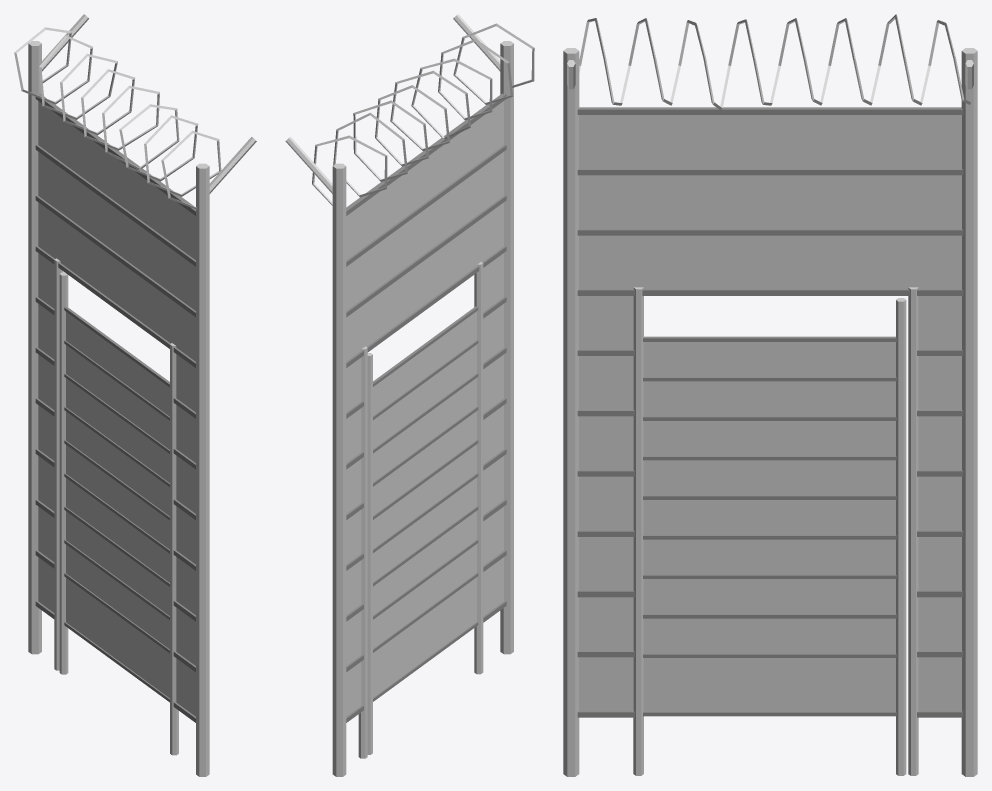
The model's file is Fence_Razor_Door.FBX.
3 views of the same model, side by side, from view 1: azimuth 30°, elevation 25°; view 2: azimuth 150°, elevation 25°; view 3: azimuth 270°, elevation 25° (orthographic). The views are drawn at different scales.
Visible parts, largest first — view 1: Fence_Razor_Plane, Door_Plane, Fence_Razor_Door_LOD0, Door_LOD0, Fence_Razor_Door_Wire_LOD0; view 2: Fence_Razor_Plane, Door_Plane, Fence_Razor_Door_LOD0, Door_LOD0, Fence_Razor_Door_Wire_LOD0; view 3: Fence_Razor_Plane, Door_Plane, Fence_Razor_Door_LOD0, Door_LOD0, Fence_Razor_Door_Wire_LOD0.
Part boxes in pixels (x1=…): Fence_Razor_Plane: x1=38, y1=101, x2=195, y2=716; Door_Plane: x1=66, y1=312, x2=169, y2=697; Fence_Razor_Door_LOD0: x1=28, y1=14, x2=256, y2=776; Door_LOD0: x1=59, y1=272, x2=169, y2=702; Fence_Razor_Door_Wire_LOD0: x1=14, y1=27, x2=221, y2=209; Fence_Razor_Plane: x1=346, y1=101, x2=503, y2=716; Door_Plane: x1=373, y1=311, x2=476, y2=697; Fence_Razor_Door_LOD0: x1=285, y1=14, x2=513, y2=776; Door_LOD0: x1=367, y1=306, x2=478, y2=754; Fence_Razor_Door_Wire_LOD0: x1=312, y1=23, x2=534, y2=205; Fence_Razor_Plane: x1=579, y1=115, x2=961, y2=711; Door_Plane: x1=643, y1=342, x2=895, y2=711; Fence_Razor_Door_LOD0: x1=563, y1=48, x2=977, y2=776; Door_LOD0: x1=643, y1=298, x2=906, y2=775; Fence_Razor_Door_Wire_LOD0: x1=579, y1=14, x2=970, y2=110.
Size of what is drawn, in the model's own units: 26.63 by 186 by 91.78.
